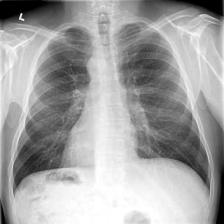normal: (8, 23, 214, 200)
